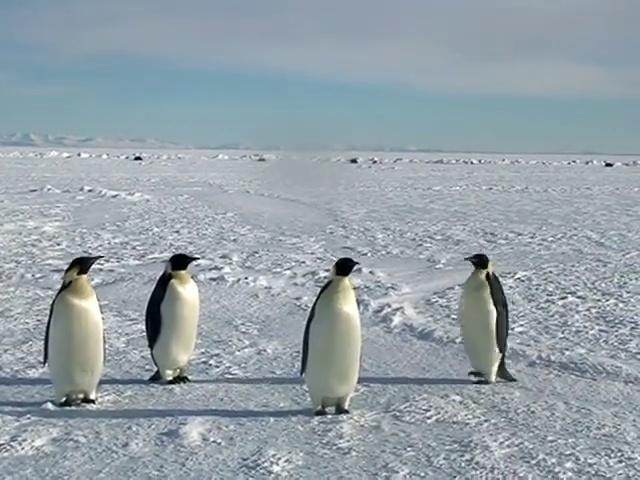animal: (302, 259, 362, 415)
